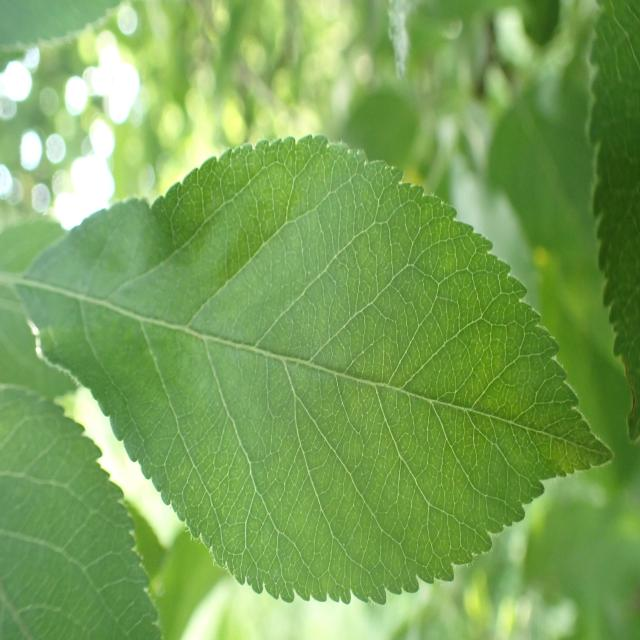healthy: (12, 136, 614, 606), (0, 385, 164, 640), (586, 0, 640, 440)
